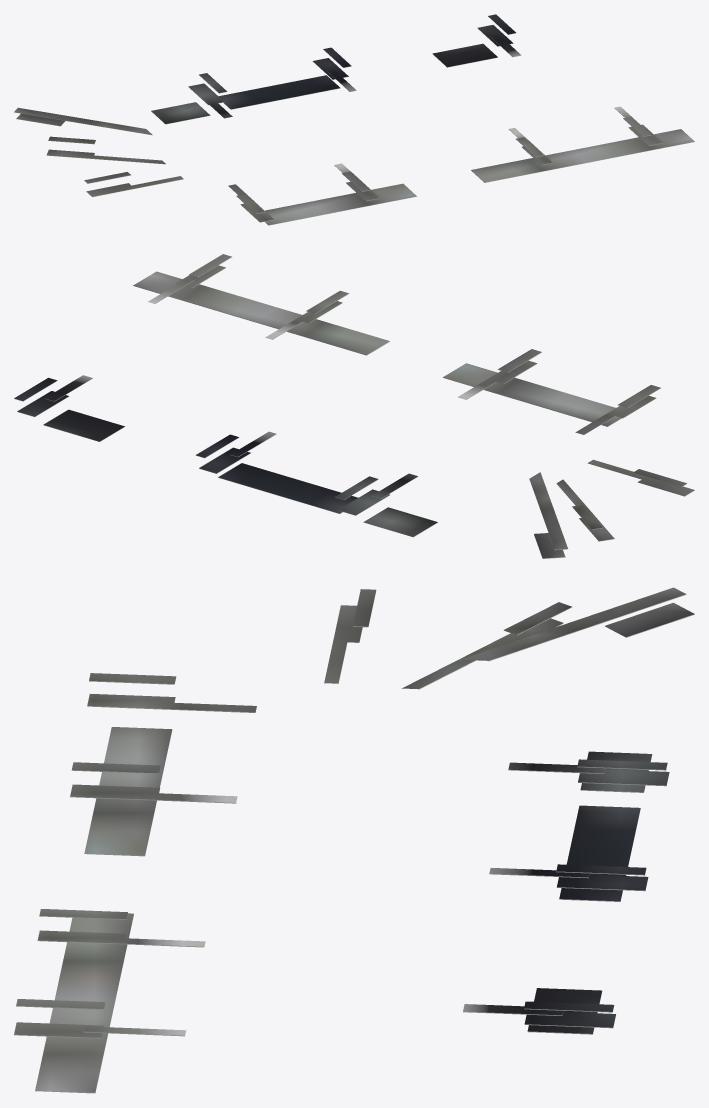
Rendered from LSZH_0_0.glb.
3 views of the same model, one above another, from view 1: azimuth 30°, elevation 25°; view 2: azimuth 150°, elevation 25°; view 3: azimuth 270°, elevation 25° (orthographic). The views are drawn at different scales.
Visible parts, largest first — view 1: building_55b6823602902216, building_93402ce5e757cfee, building_f7530440666fe65f, building_4b809636dc72f209; view 2: building_55b6823602902216, building_93402ce5e757cfee, building_f7530440666fe65f, building_4b809636dc72f209; view 3: building_55b6823602902216, building_93402ce5e757cfee, building_f7530440666fe65f, building_4b809636dc72f209.
Boxes of the visible parts, box(x1,y1,x2,y2) form: building_55b6823602902216: box(47, 14, 694, 224); building_93402ce5e757cfee: box(14, 47, 351, 134); building_f7530440666fe65f: box(47, 16, 694, 225); building_4b809636dc72f209: box(14, 49, 351, 135); building_55b6823602902216: box(14, 254, 694, 540); building_93402ce5e757cfee: box(196, 434, 567, 558); building_f7530440666fe65f: box(14, 257, 694, 541); building_4b809636dc72f209: box(195, 437, 567, 558); building_55b6823602902216: box(14, 589, 615, 1092); building_93402ce5e757cfee: box(460, 587, 694, 901); building_f7530440666fe65f: box(14, 592, 616, 1093); building_4b809636dc72f209: box(460, 594, 694, 901).
Size of what is drawn, in the model's own units: 142 by 6.99 by 87.08.
Materials: 2 (1 with a texture image).
